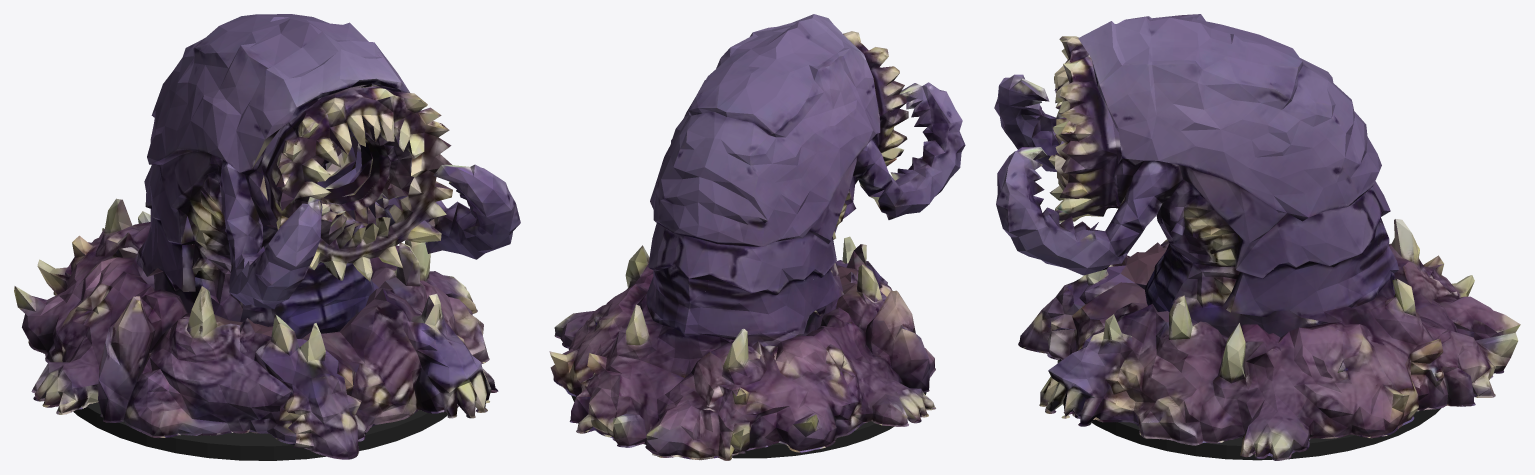
Rendered from omega-worm.glb.
3 views of the same model, side by side, from view 1: azimuth 30°, elevation 25°; view 2: azimuth 150°, elevation 25°; view 3: azimuth 270°, elevation 25° (orthographic). The views are drawn at different scales.
Visible parts, largest first — view 1: lower-part (×2), upper-part; view 2: lower-part (×2), upper-part; view 3: lower-part (×2), upper-part.
Part boxes in pixels (left/top/right/bottom): lower-part (×2): left=14, top=198, right=498, bottom=460; upper-part: left=144, top=14, right=520, bottom=309; lower-part (×2): left=549, top=236, right=935, bottom=460; upper-part: left=648, top=14, right=965, bottom=302; lower-part (×2): left=1018, top=218, right=1520, bottom=460; upper-part: left=994, top=14, right=1390, bottom=278.
Bounding box in the file's own units: 3.69 × 3.12 × 4.15.
Materials: 2 (1 with a texture image).
